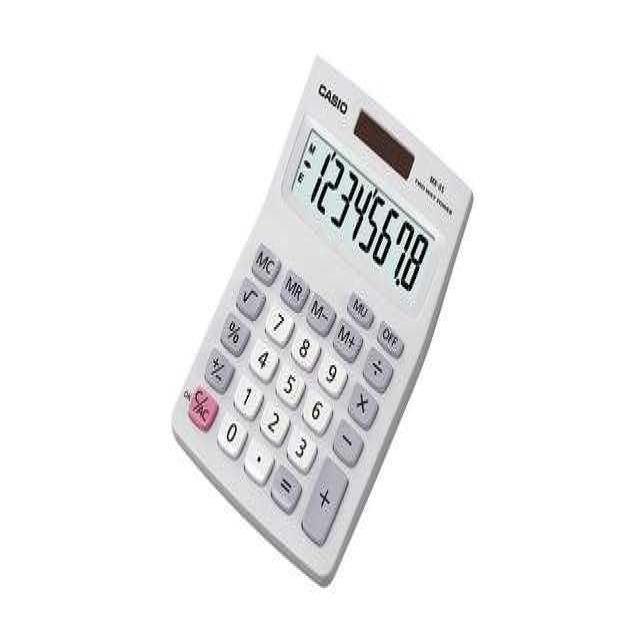Calculator: (171, 56, 471, 584)
